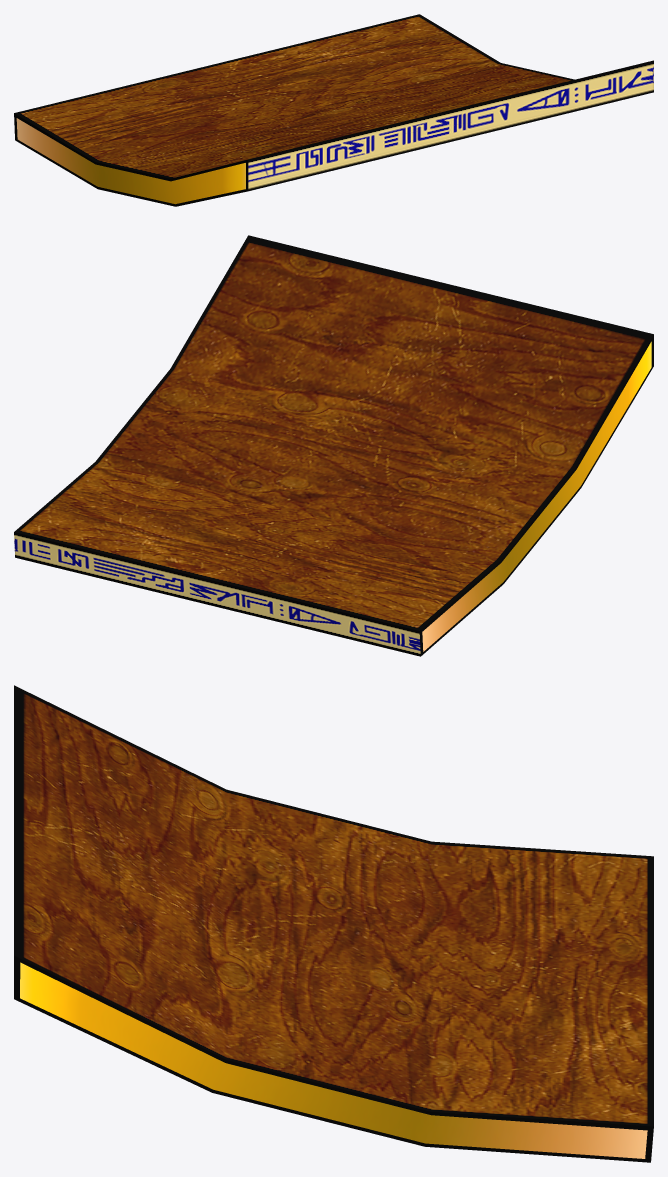
Rendered from jungle_ramp.gltf.
3 views of the same model, one above another, from view 1: azimuth 30°, elevation 25°; view 2: azimuth 150°, elevation 25°; view 3: azimuth 270°, elevation 25° (orthographic). The views are drawn at different scales.
Visible parts, largest first — view 1: jungle_ramp_glb; view 2: jungle_ramp_glb; view 3: jungle_ramp_glb.
Part boxes in pixels (bbox=[...]): jungle_ramp_glb: bbox=[14, 14, 653, 206]; jungle_ramp_glb: bbox=[14, 235, 653, 656]; jungle_ramp_glb: bbox=[14, 685, 653, 1162].
Size of what is drawn, in the model's own units: 4.02 by 1.44 by 4.02.
Materials: 1 (1 with a texture image).
